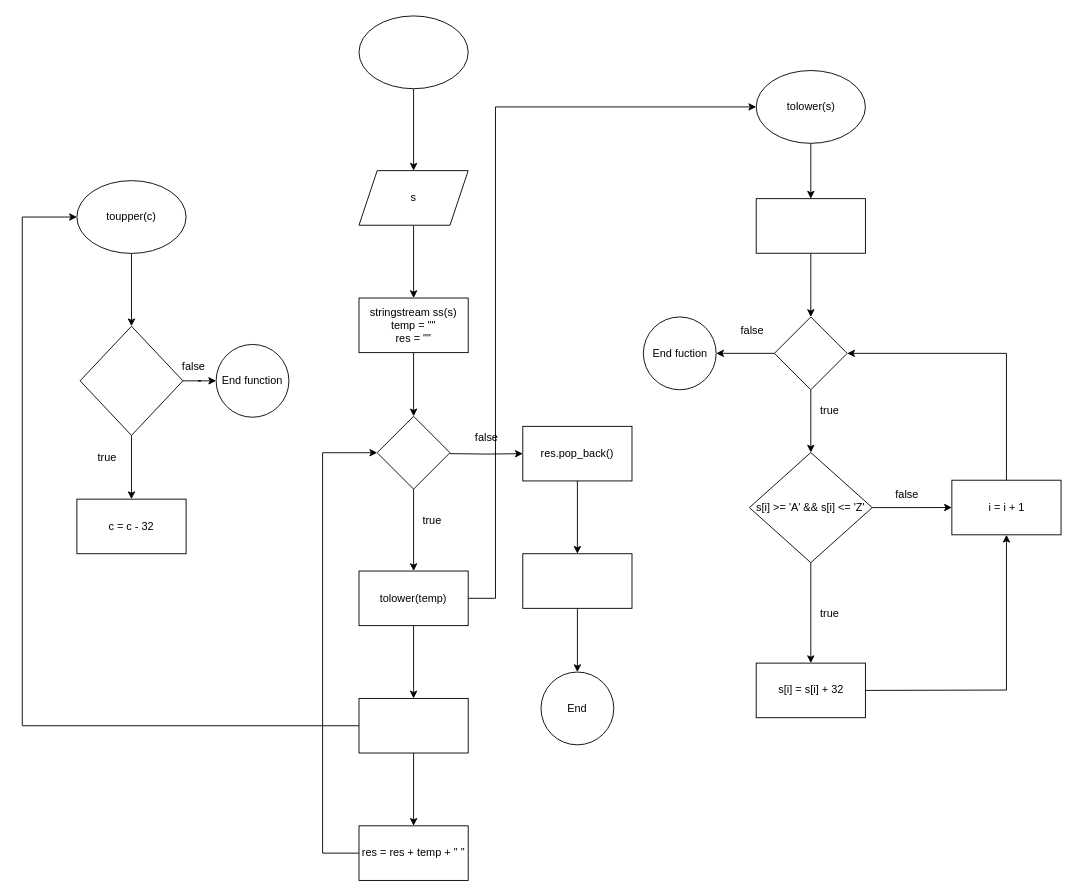
This 1077x896 diagram has some shape labels left out. Here are the shapes that lost their labels. From the top down, the centre of each, then its label:
At (x=413, y=52): "Begin".
At (x=810, y=225): "i = 0 n = s.size".
At (x=810, y=353): "i < n".
At (x=131, y=380): "c >= 'a' && c <= 'z'".
At (x=413, y=452): "ss >> temp".
At (x=577, y=580): "res".
At (x=413, y=725): "toupper(temp[0])".
